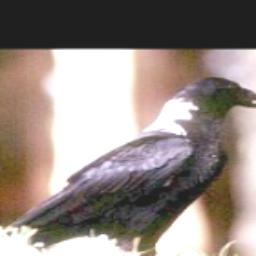Crow: (0, 69, 256, 256)
